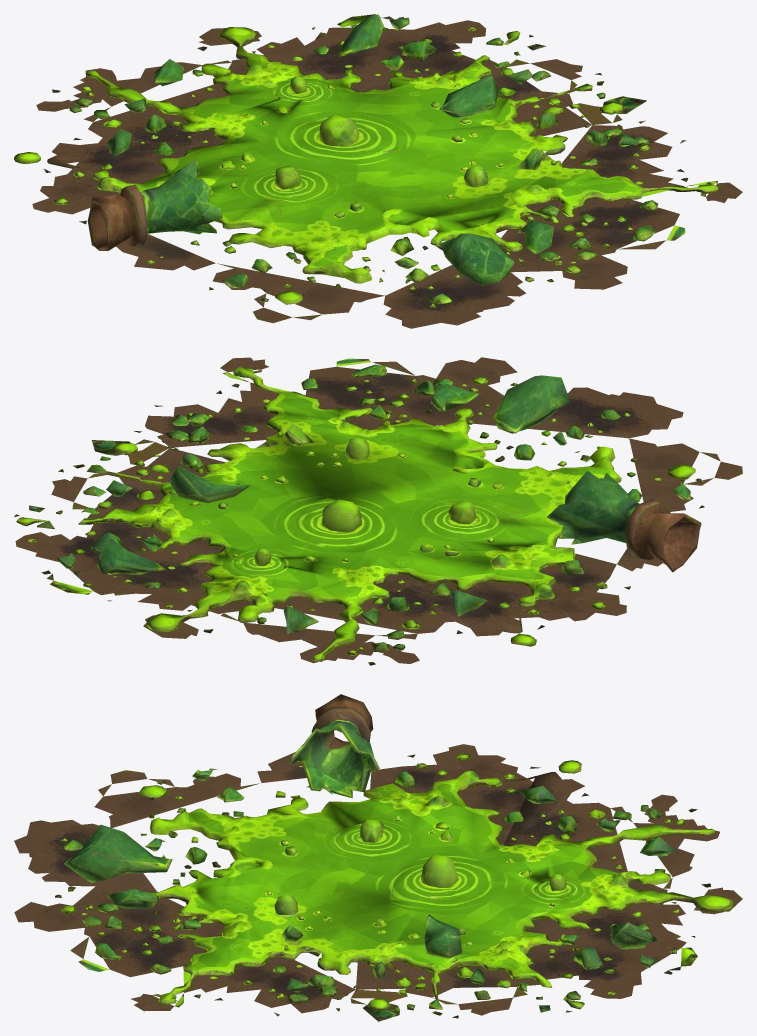
The model's file is acid_puddle.glb.
3 views of the same model, one above another, from view 1: azimuth 30°, elevation 25°; view 2: azimuth 150°, elevation 25°; view 3: azimuth 270°, elevation 25° (orthographic).
Size of the model in its own units: 0.8657 by 0.1089 by 0.958.
1 material, 1 textured.
